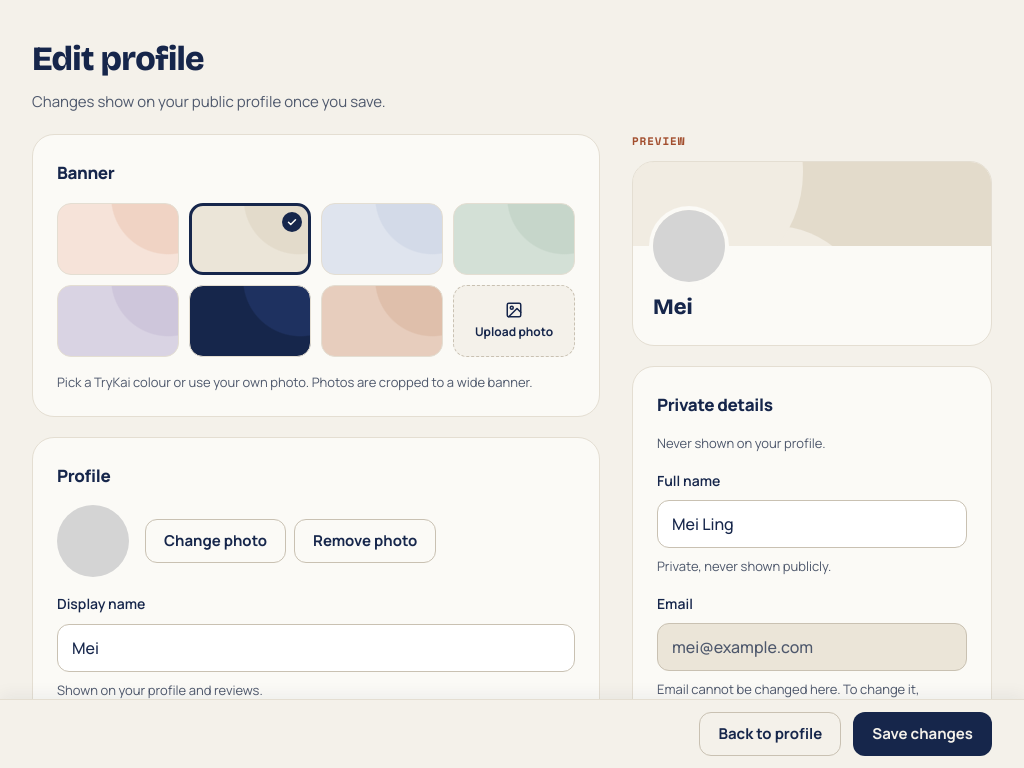
Test case: Settings profile form › removes the photo after confirm and says Photo removed
This screenshot has width=1024, height=768.
Expected: the heading "Edit profile" is shown, x1=32 y1=38 x2=204 y2=79
Step 1. Click the button "Remove photo" → [365, 541], box x1=294 y1=519 x2=436 y2=563
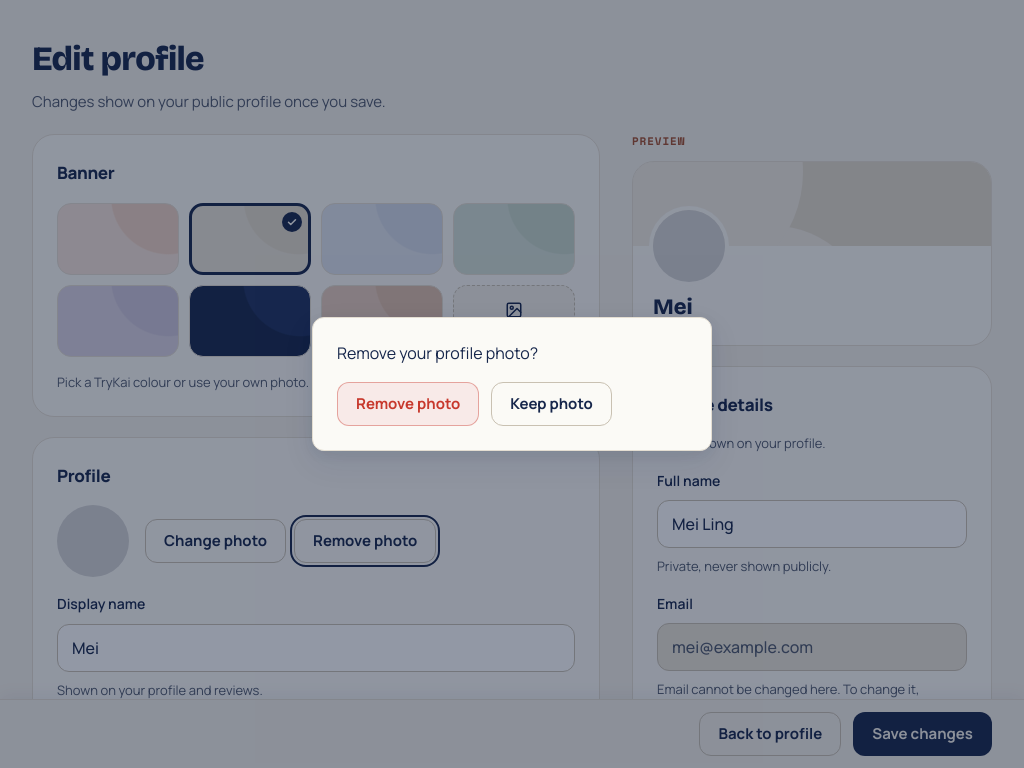
Expected: the dialog shows "Remove your profile photo?", x1=337 y1=342 x2=538 y2=364
Step 2. Click the button "Remove photo" → [408, 404], box x1=337 y1=382 x2=479 y2=426
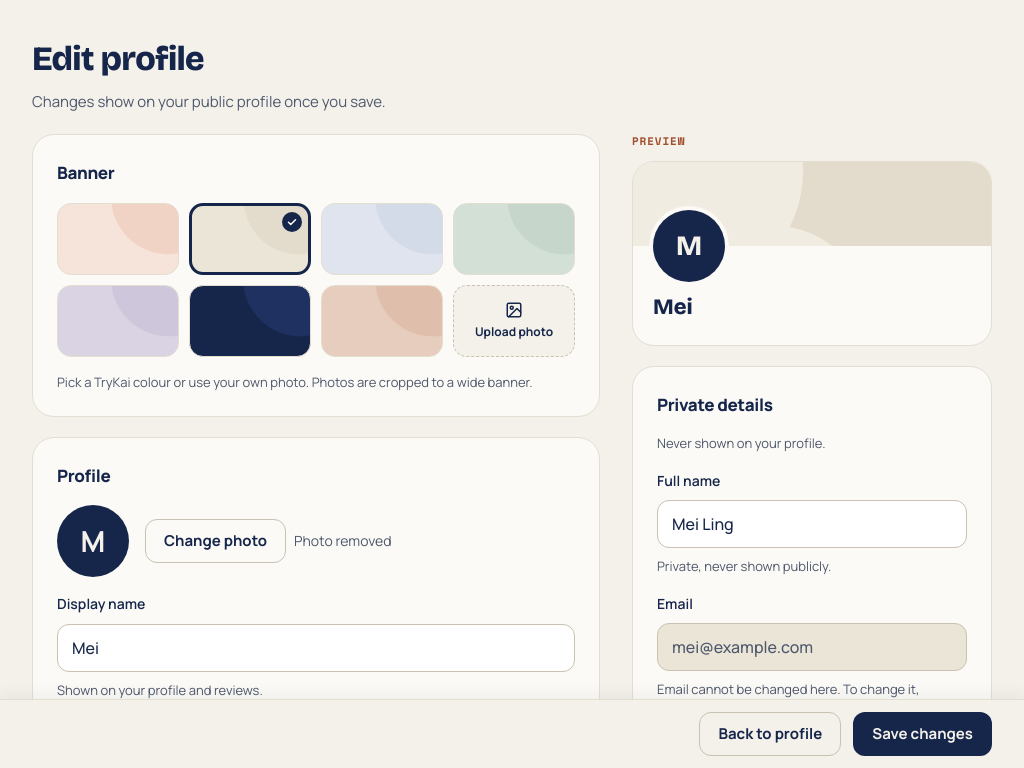
Expected: the message reads "Photo removed", x1=294 y1=531 x2=392 y2=550
Expected: the button "Remove photo" is gone
